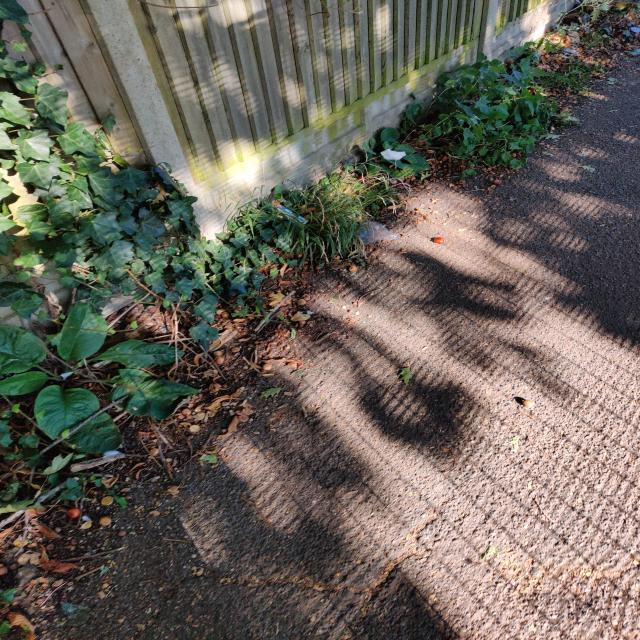litter: (265, 200, 310, 228), (353, 221, 399, 244), (380, 149, 406, 161)
